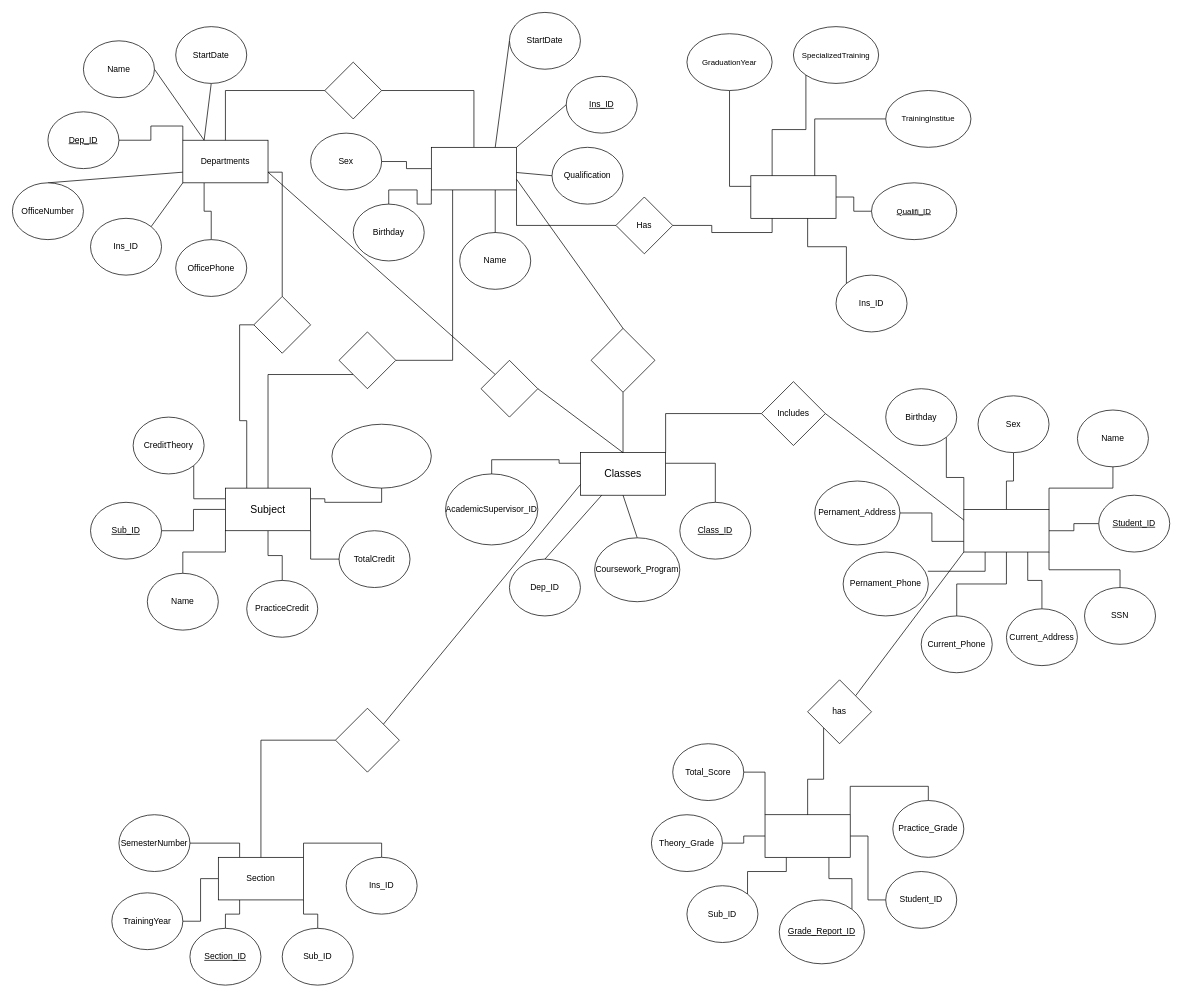
Image size: 1182x998. Some labels were removed from this diagram. Each missing label, with the centre of its shape:
arranged in: [367,740]
Belong to: [509,388]
Contains: [282,324]
Grade_Report: [807,835]
Instructor: [474,168]
Manages: [353,90]
PrerequisiteSubjects_ID: [381,456]
Qualifications: [793,196]
Students: [1006,530]
supervised by: [622,360]
Teach: [367,360]
